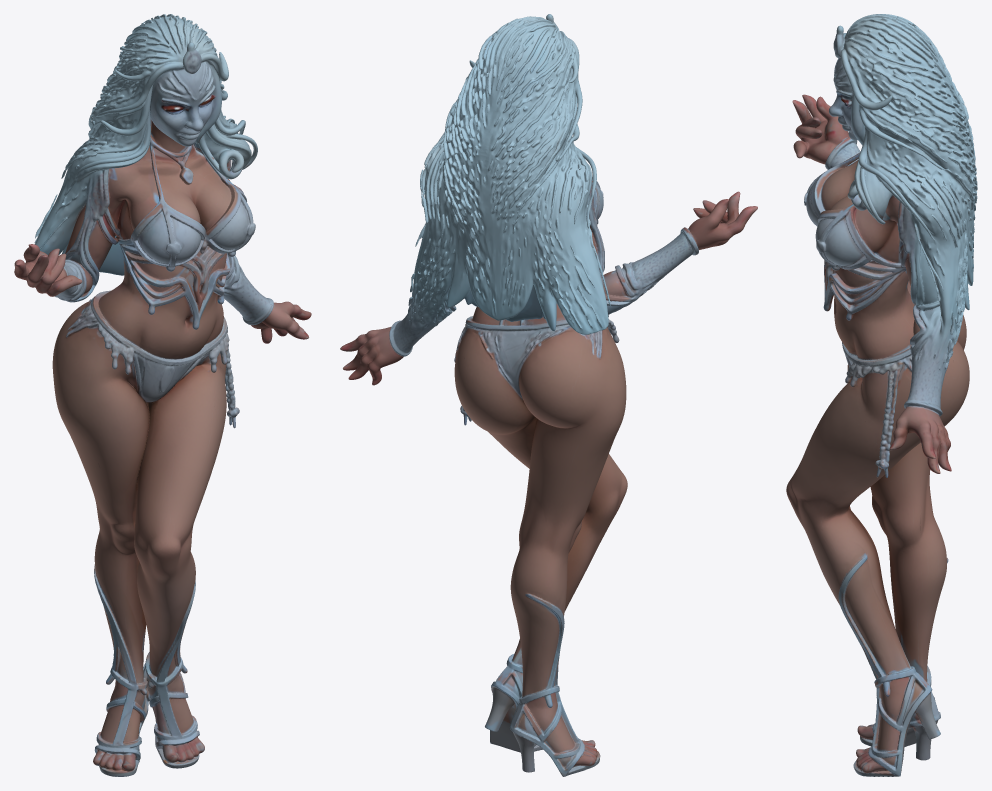
The model's file is player3.glb.
The picture shows the model from 3 angles, left to right: view 1: azimuth 30°, elevation 25°; view 2: azimuth 150°, elevation 25°; view 3: azimuth 270°, elevation 25°; orthographic projection. The views are drawn at different scales.
Visible parts, largest first — view 1: Object_3, Object_2, Object_5, Object_6, Object_4, Object_7; view 2: Object_3, Object_4, Object_5, Object_6, Object_2, Object_7; view 3: Object_2, Object_3, Object_5, Object_6, Object_4, Object_7.
Part boxes in pixels (<box>): Object_3: <box>52,199,269,682</box>; Object_2: <box>133,143,255,586</box>; Object_5: <box>14,14,204,776</box>; Object_6: <box>52,14,257,253</box>; Object_4: <box>35,14,311,343</box>; Object_7: <box>108,121,243,243</box>; Object_3: <box>394,178,627,695</box>; Object_4: <box>340,27,608,385</box>; Object_5: <box>485,26,757,776</box>; Object_6: <box>430,14,598,334</box>; Object_2: <box>454,306,589,509</box>; Object_7: <box>442,103,597,320</box>; Object_2: <box>786,173,969,567</box>; Object_3: <box>786,179,966,679</box>; Object_5: <box>792,19,940,776</box>; Object_6: <box>808,14,966,241</box>; Object_4: <box>804,14,977,473</box>; Object_7: <box>805,101,977,270</box>.
Bounding box in the file's own units: 0.602 × 1.19 × 0.2736.
Materials: 1 (1 with a texture image).
